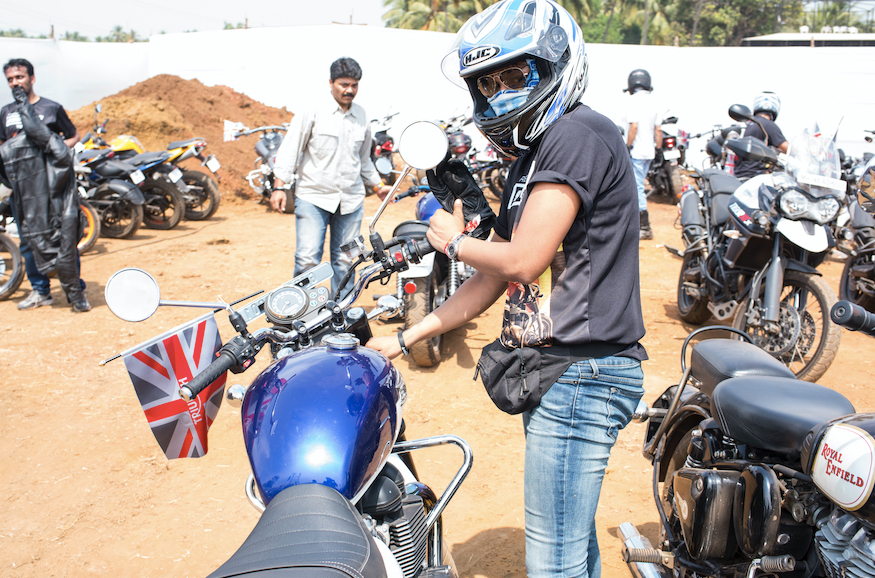with_helmet: (442, 9, 593, 125)
